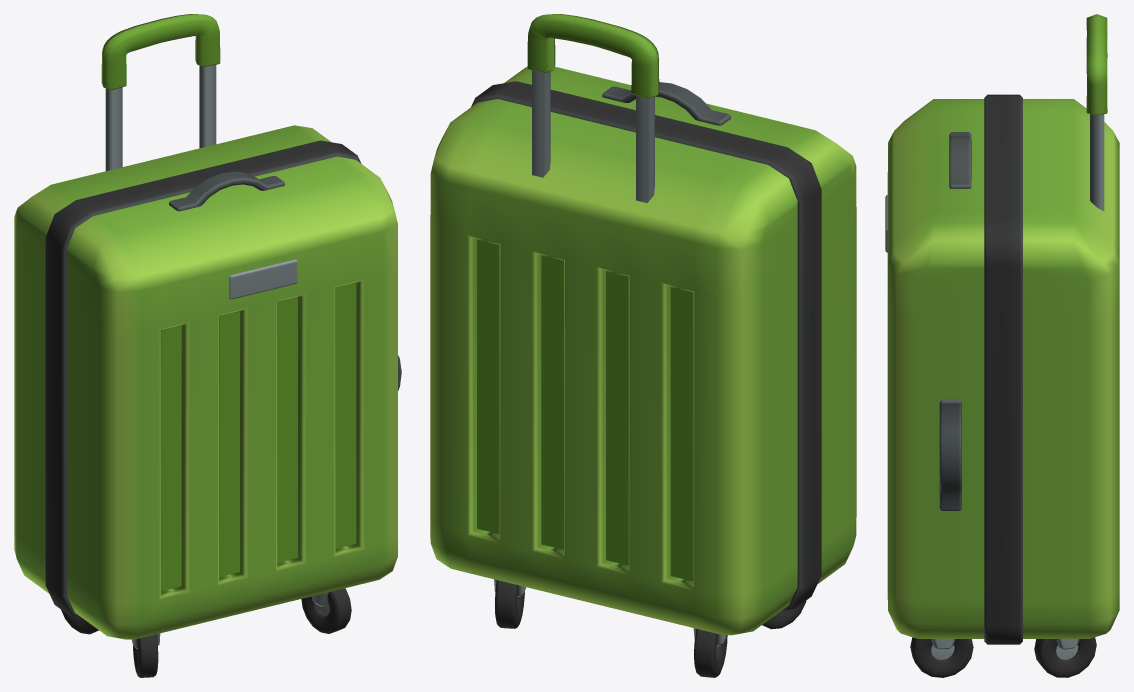
The model's file is suitcase.fbx.
3 views of the same model, side by side, from view 1: azimuth 30°, elevation 25°; view 2: azimuth 150°, elevation 25°; view 3: azimuth 270°, elevation 25° (orthographic). The views are drawn at different scales.
Parts seen in each view (by area): view 1: suitcase; view 2: suitcase; view 3: suitcase.
Boxes of the visible parts, bbox=[...] form: suitcase: bbox=[14, 14, 401, 677]; suitcase: bbox=[430, 14, 856, 677]; suitcase: bbox=[885, 14, 1119, 677].
Size of the model in its own units: 1.08 by 1.87 by 0.6643.
